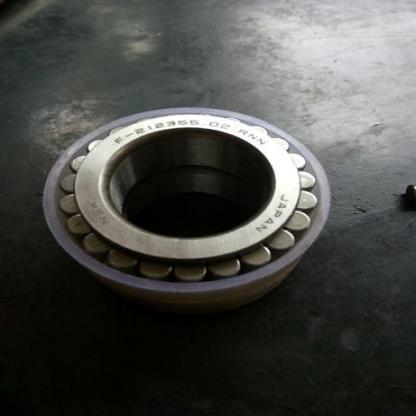FOD: (40, 104, 338, 310)
